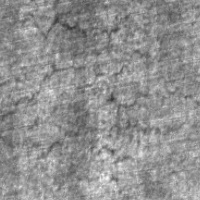crazing: (0, 41, 154, 112), (14, 1, 145, 58), (23, 117, 189, 156)
